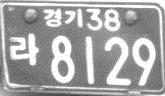1: (77, 35, 101, 85)
2: (103, 36, 130, 86)
3: (85, 7, 103, 32)
8: (50, 34, 75, 84), (103, 7, 120, 32)
9: (131, 36, 156, 85)
경기_O: (43, 8, 83, 28)
라: (8, 33, 39, 66)
